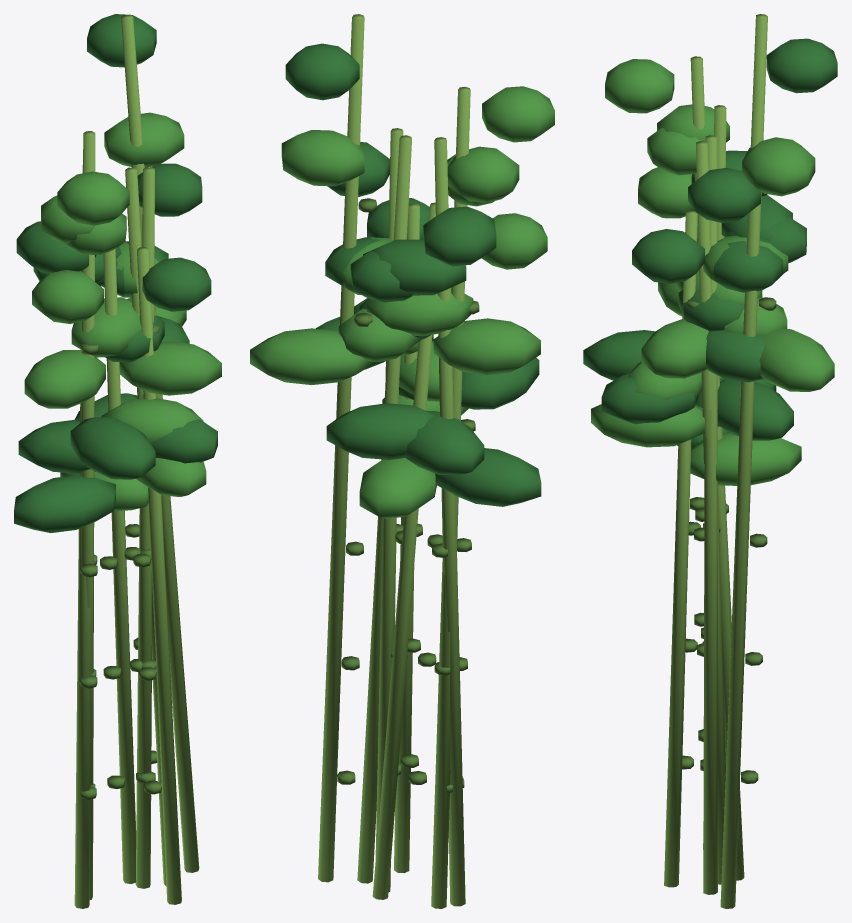
Rendered from bamboo.glb.
3 renders of one model, left to right at view 1: azimuth 30°, elevation 25°; view 2: azimuth 150°, elevation 25°; view 3: azimuth 270°, elevation 25°, orthographic. The views are drawn at different scales.
Parts seen in each view (by area): view 1: BambooMesh; view 2: BambooMesh; view 3: BambooMesh.
Part boxes in pixels (x1,y1,x2,y2): BambooMesh: [14, 14, 221, 908]; BambooMesh: [250, 14, 554, 908]; BambooMesh: [583, 14, 837, 908].
Bounding box in the file's own units: 1.83 × 6.79 × 1.8.
